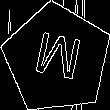M_S: (29, 29, 85, 88)
